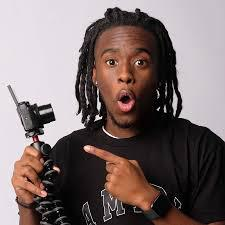kai-cenat: (92, 21, 166, 131)
